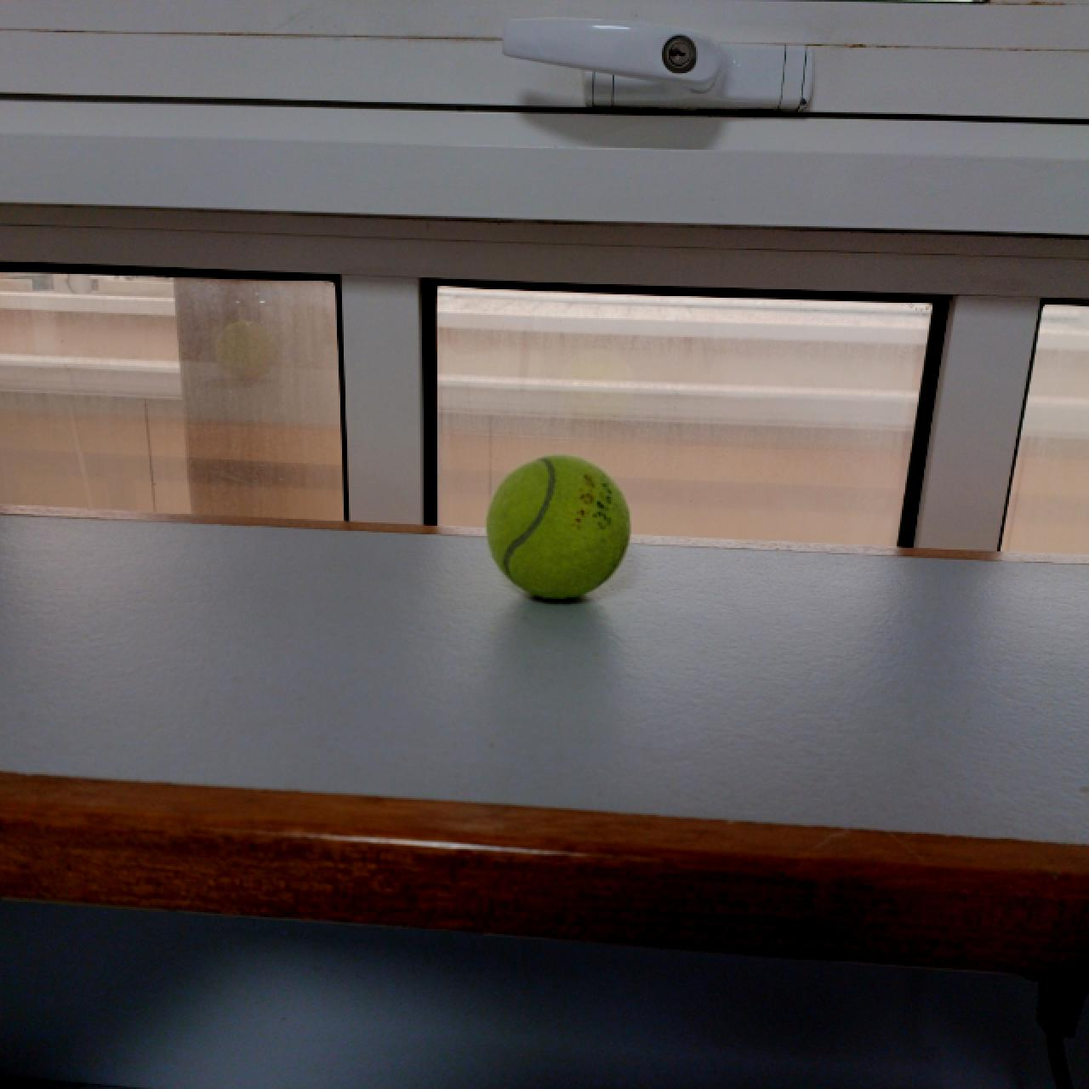tennis-ball: (486, 453, 629, 606)
